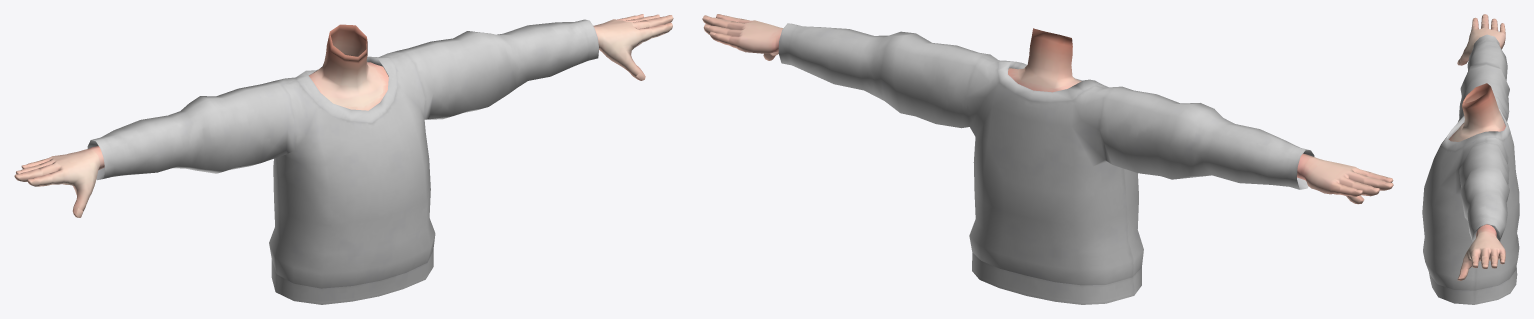
File: tr0740_00_upb02.gltf
3 views of the same model, side by side, from view 1: azimuth 30°, elevation 25°; view 2: azimuth 150°, elevation 25°; view 3: azimuth 270°, elevation 25° (orthographic). The views are drawn at different scales.
Visible parts, largest first — view 1: upb02_cloth_mesh_shape:upperbody02, upb02_upperbody_mesh_shape:upperbody02_skin; view 2: upb02_cloth_mesh_shape:upperbody02, upb02_upperbody_mesh_shape:upperbody02_skin; view 3: upb02_cloth_mesh_shape:upperbody02, upb02_upperbody_mesh_shape:upperbody02_skin.
Part boxes in pixels (x1=…): upb02_cloth_mesh_shape:upperbody02: x1=87, y1=19, x2=599, y2=304; upb02_upperbody_mesh_shape:upperbody02_skin: x1=14, y1=14, x2=673, y2=217; upb02_cloth_mesh_shape:upperbody02: x1=778, y1=23, x2=1314, y2=304; upb02_upperbody_mesh_shape:upperbody02_skin: x1=702, y1=14, x2=1393, y2=204; upb02_cloth_mesh_shape:upperbody02: x1=1422, y1=34, x2=1519, y2=304; upb02_upperbody_mesh_shape:upperbody02_skin: x1=1449, y1=14, x2=1505, y2=280.
Size of what is drawn, in the model's own units: 1.63 by 0.5772 by 0.2666.
Materials: 2 (2 with a texture image).
